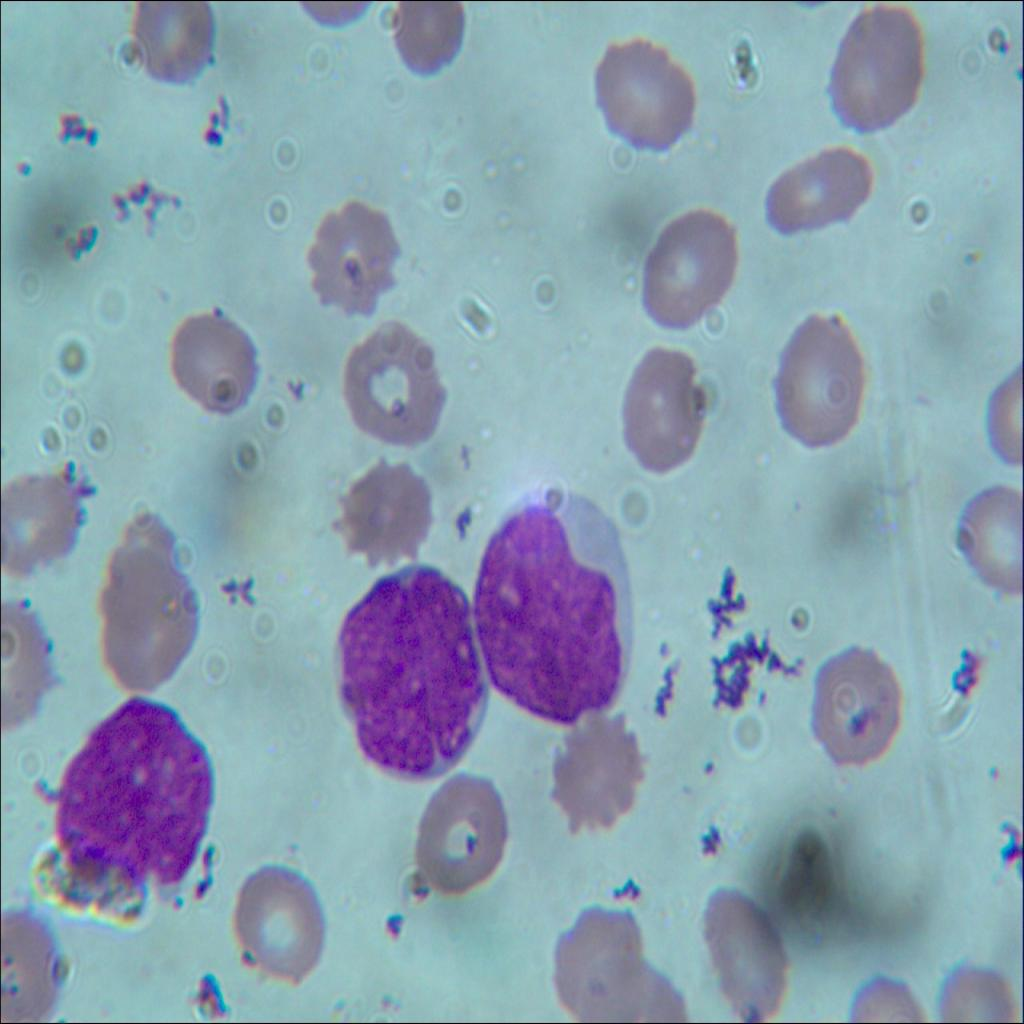Eritrosit: (89, 538, 209, 689), (586, 34, 702, 159), (826, 4, 934, 134), (338, 319, 448, 438), (768, 315, 863, 451), (328, 459, 438, 574), (619, 339, 713, 473), (298, 192, 392, 324), (543, 906, 649, 1020), (704, 887, 794, 1021), (638, 204, 738, 322), (153, 308, 263, 412), (800, 648, 906, 755), (226, 867, 326, 979), (756, 148, 870, 246), (418, 779, 510, 898), (561, 705, 643, 832), (129, 0, 216, 87), (0, 475, 83, 564), (956, 481, 1023, 585), (386, 0, 458, 76)
Limfoblast: (324, 561, 496, 774), (482, 488, 642, 712), (53, 692, 215, 902)
Platelet: (9, 144, 44, 192), (376, 899, 408, 945)
